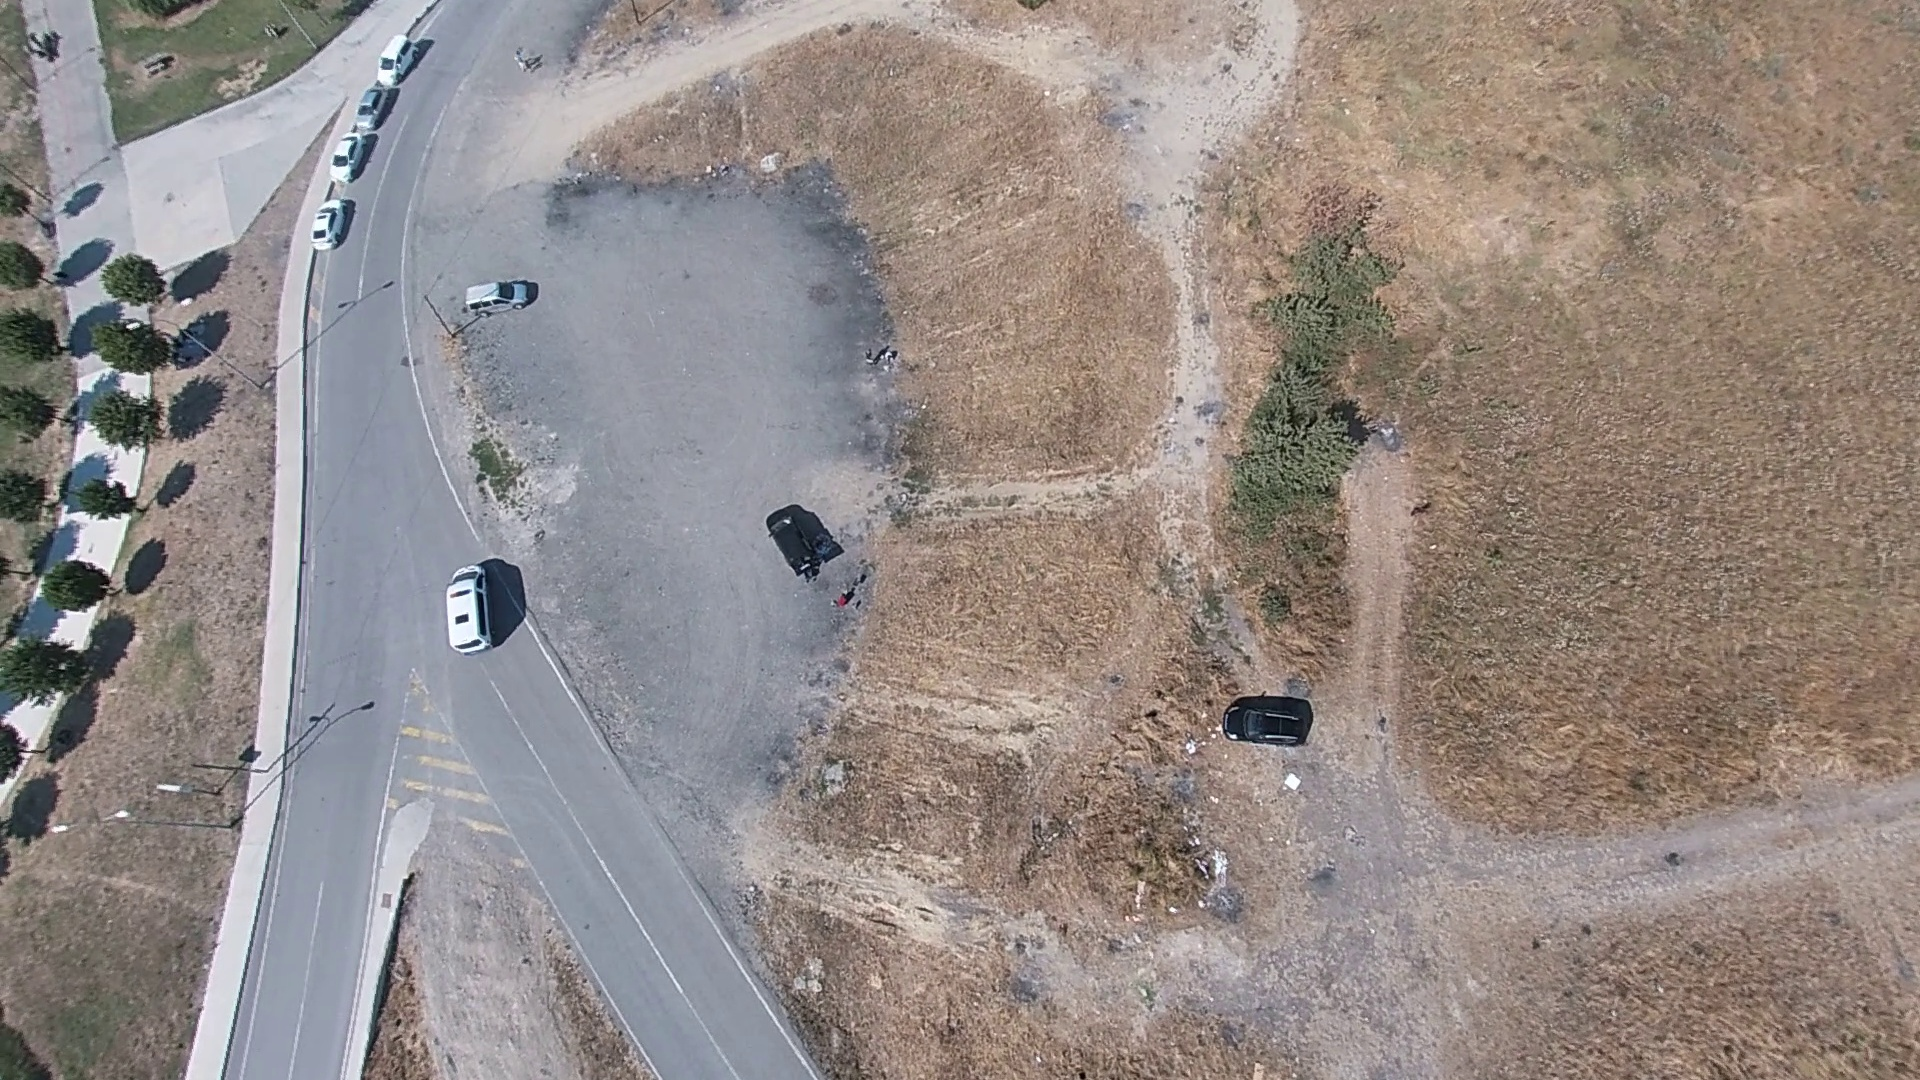arac: (769, 502, 842, 582), (438, 561, 495, 658), (1223, 703, 1315, 746), (370, 30, 425, 82), (463, 273, 540, 307), (311, 196, 357, 247), (347, 84, 397, 130), (335, 134, 368, 184)
insan: (509, 47, 533, 74)
